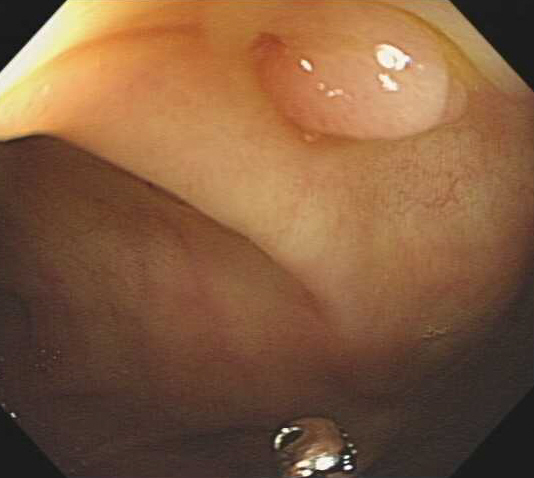adenoma: (249, 32, 475, 141)
